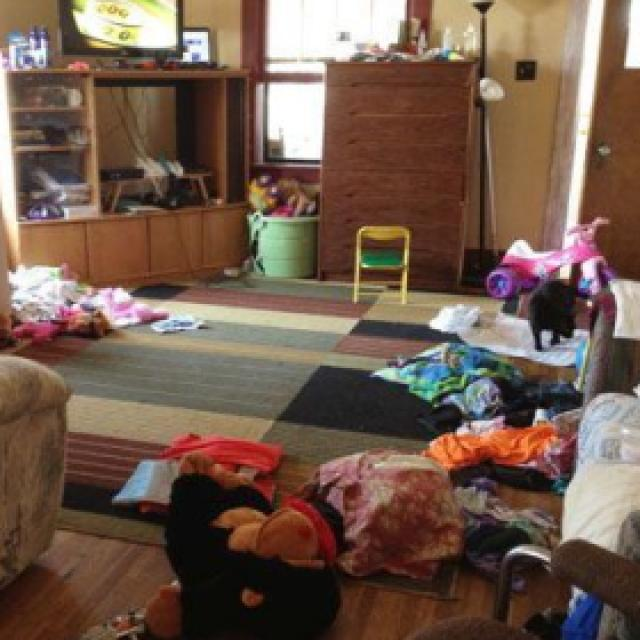mess: (144, 391, 608, 640), (366, 154, 601, 385), (0, 132, 210, 377)
